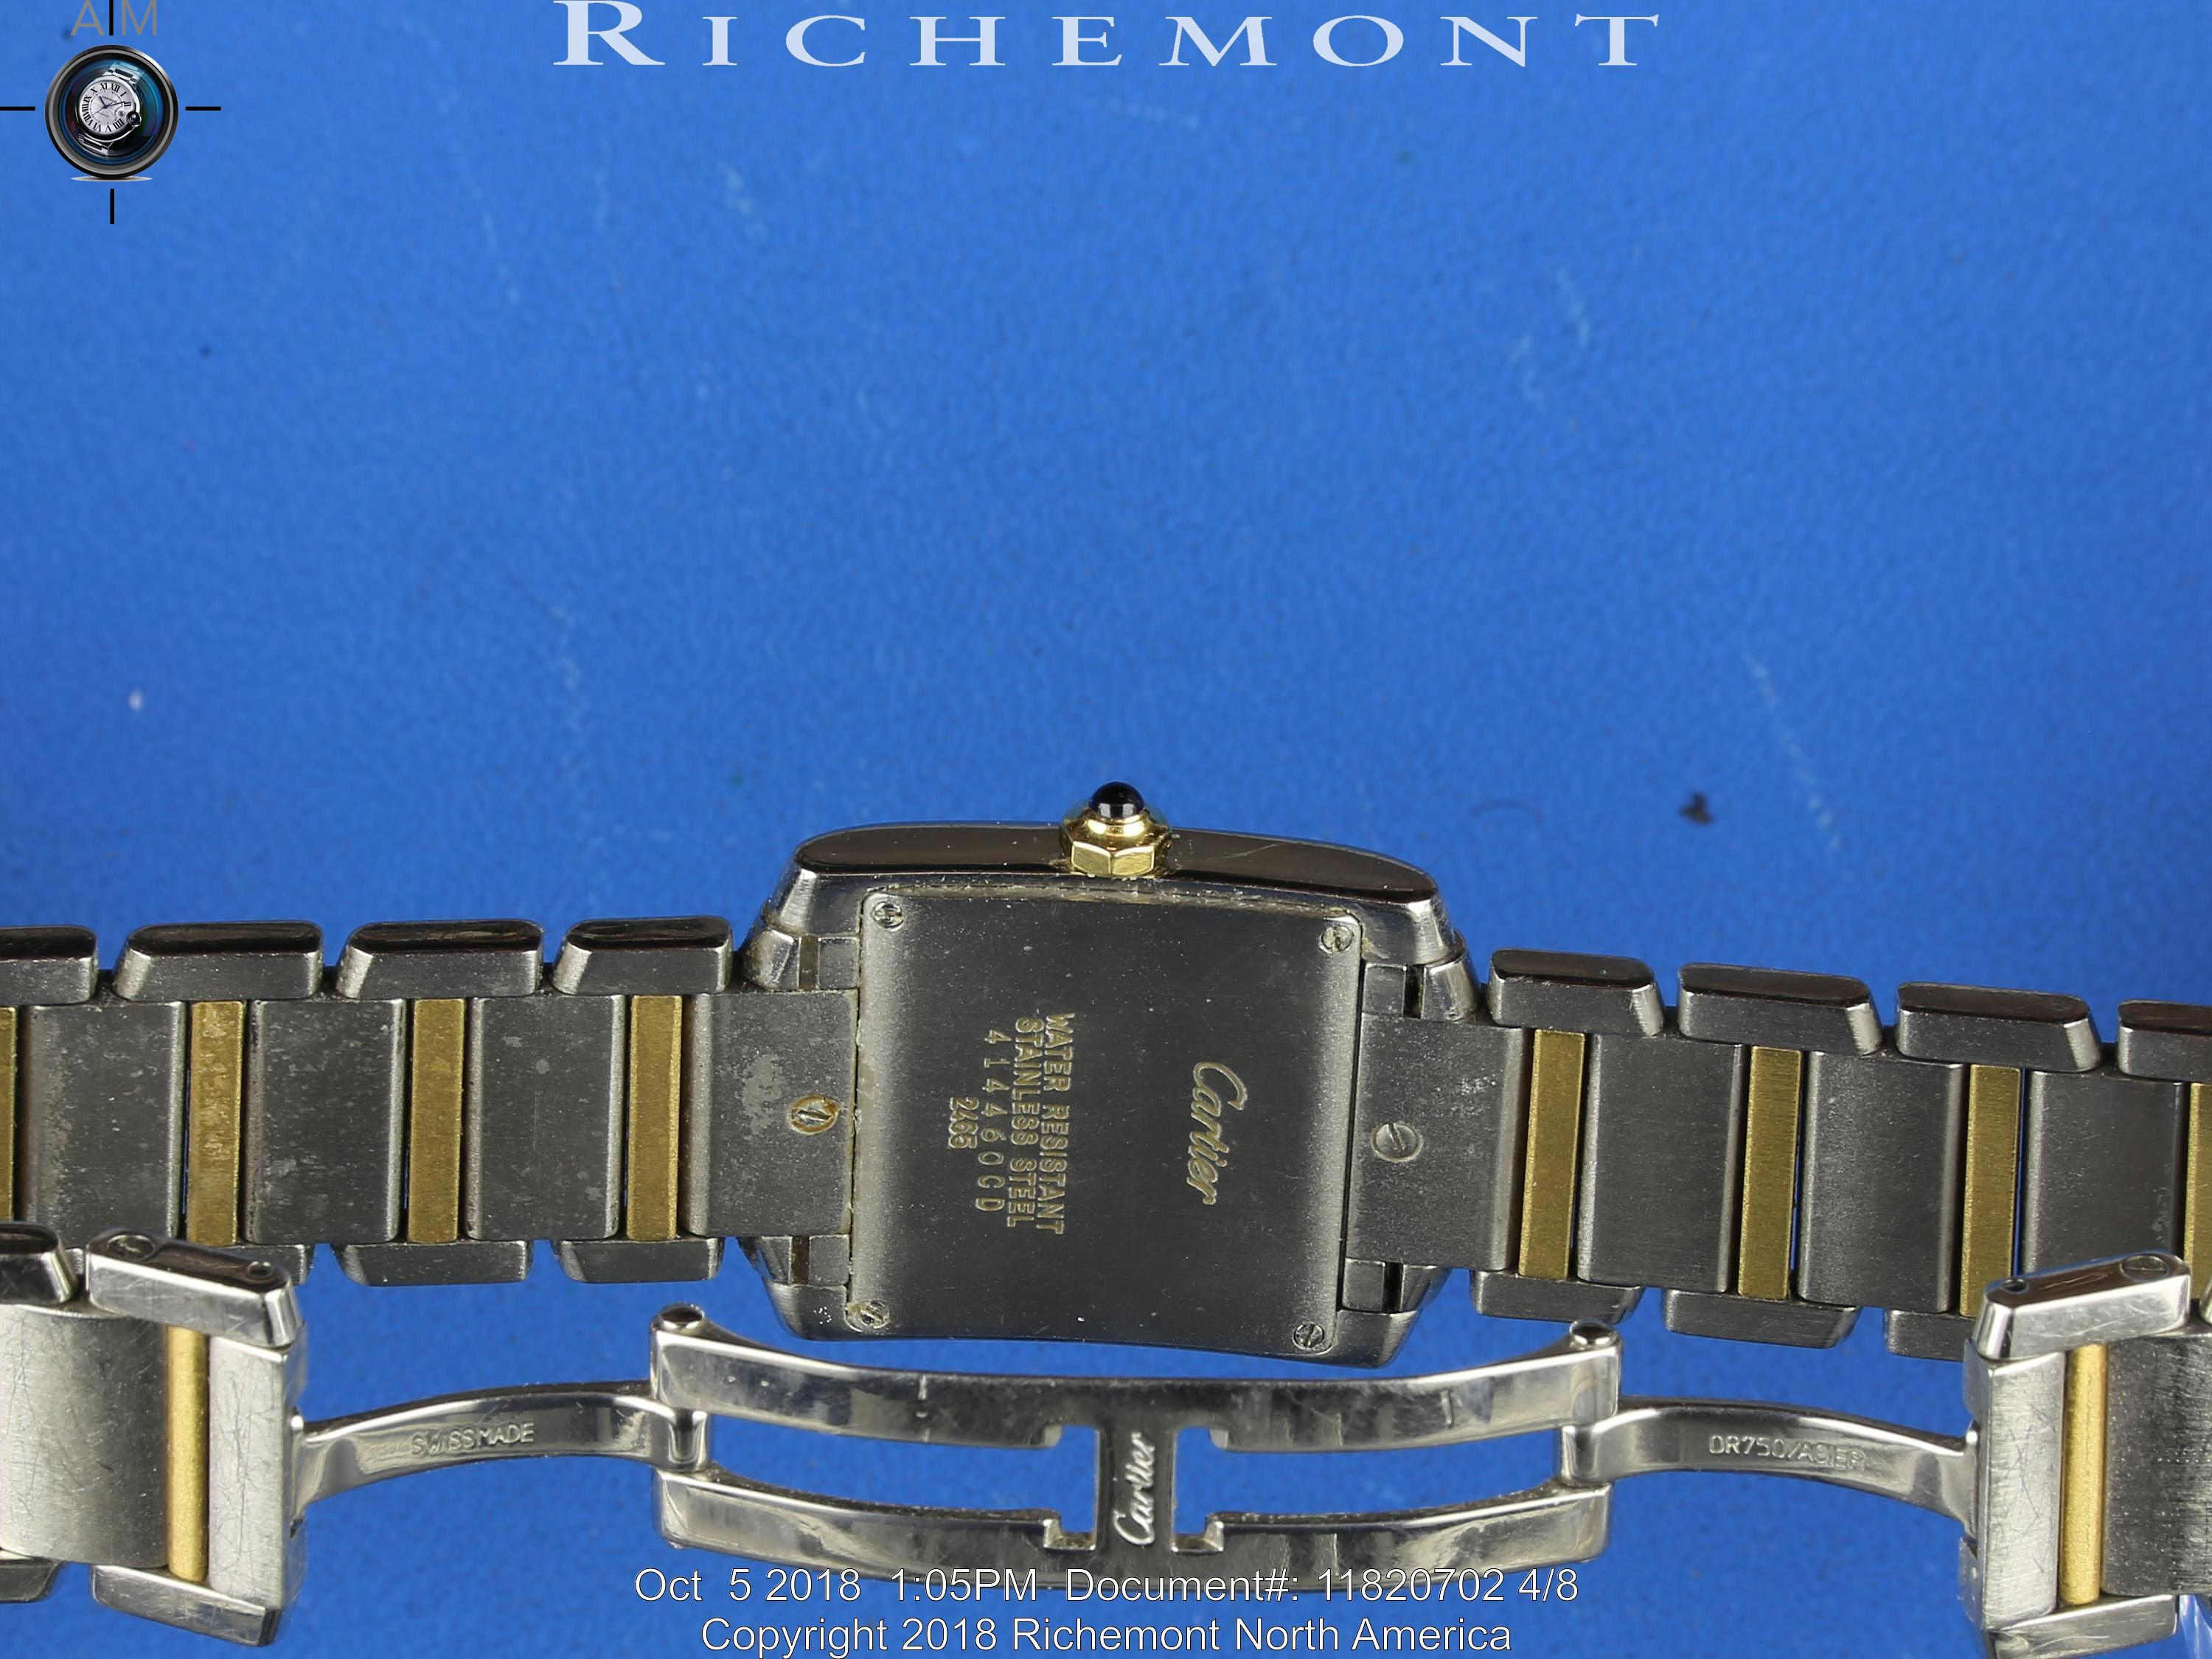watchback: (766, 786, 1447, 1358)
